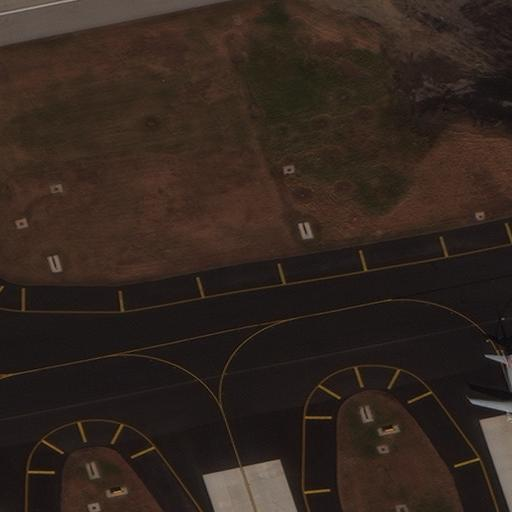Medium Civil Transport: (471, 348, 511, 433)
